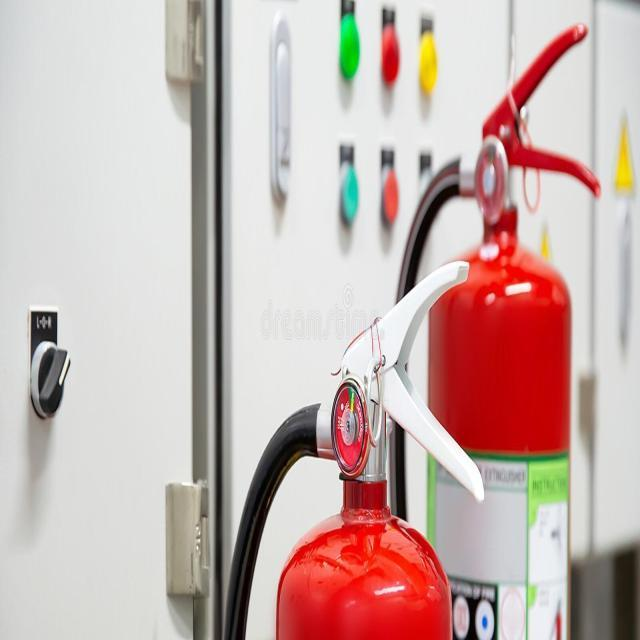fire_extinguisher: (379, 15, 604, 639), (218, 246, 490, 640)
